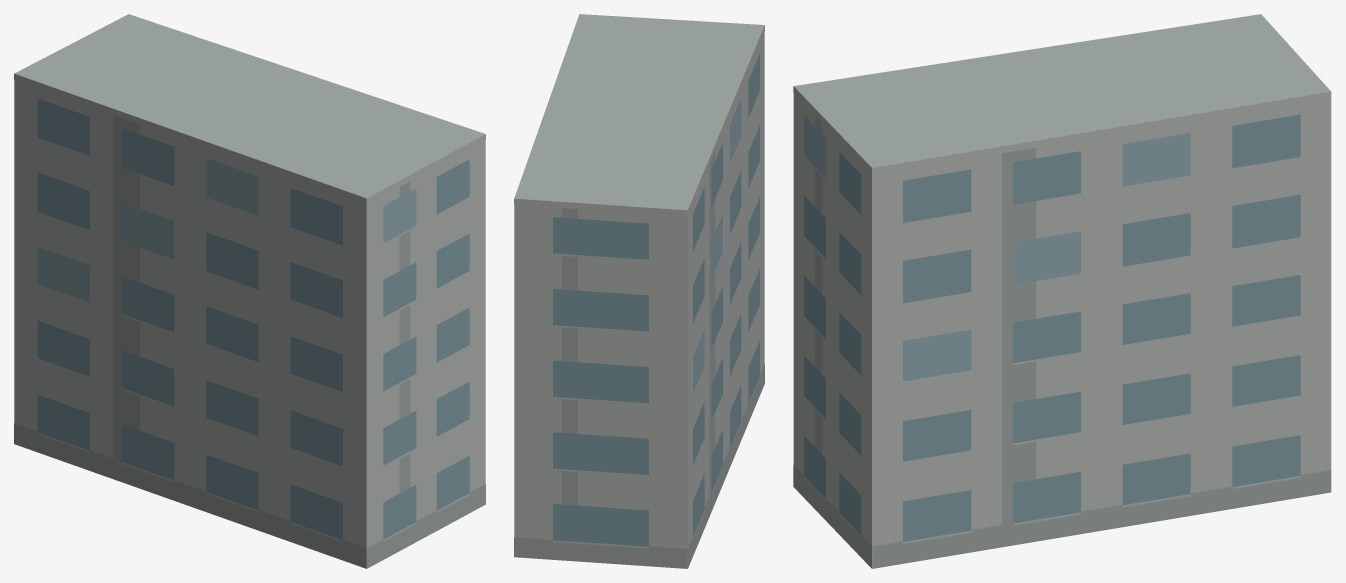
Rendered from survey-upis-33015805.glb.
3 renders of one model, left to right at view 1: azimuth 30°, elevation 25°; view 2: azimuth 150°, elevation 25°; view 3: azimuth 270°, elevation 25°, orthographic. The views are drawn at different scales.
Visible parts, largest first — view 1: survey-upis-33015805.tmp; view 2: survey-upis-33015805.tmp; view 3: survey-upis-33015805.tmp.
Part boxes in pixels (x1,y1,x2,y2): survey-upis-33015805.tmp: [14, 14, 485, 568]; survey-upis-33015805.tmp: [514, 14, 764, 568]; survey-upis-33015805.tmp: [793, 14, 1331, 568].
Bounding box in the file's own units: 11.88 × 14.4 × 17.52.
